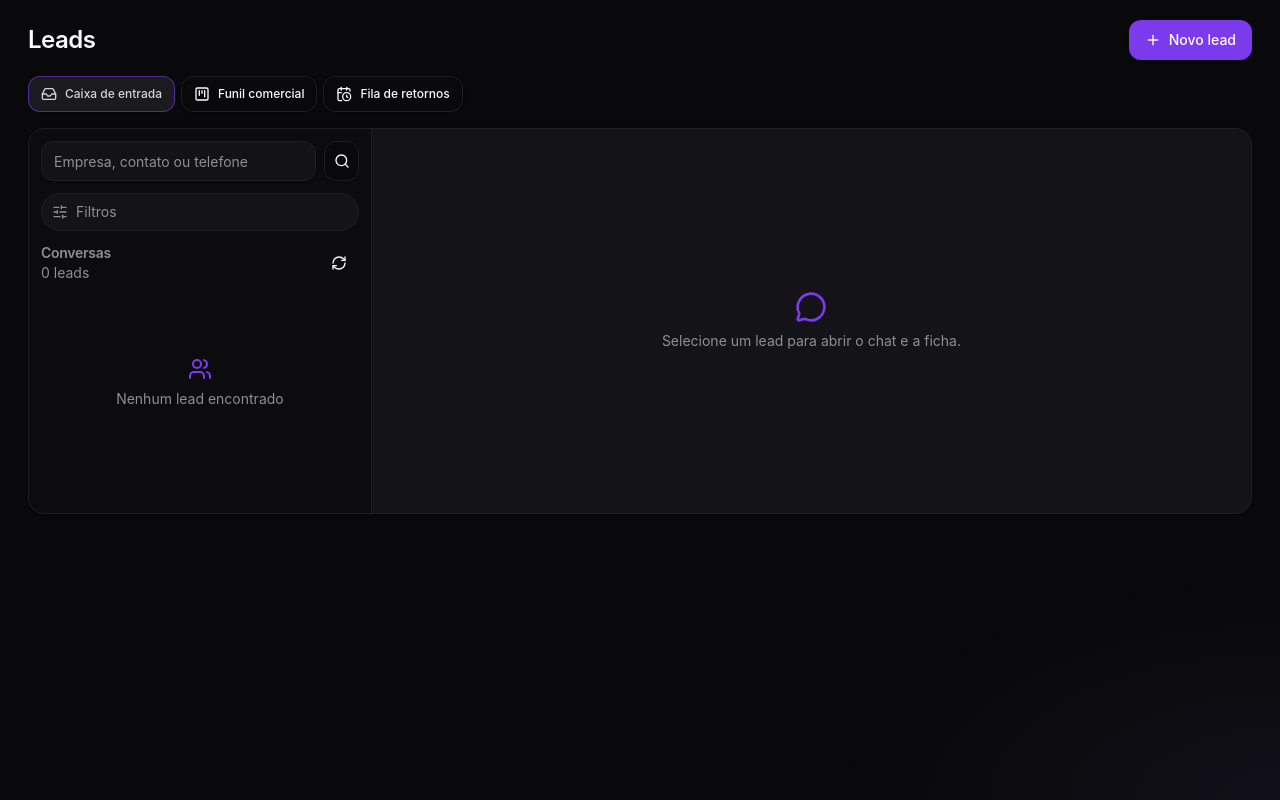
Leads, equipe e Meta Ads › leads consultam o filtro de pesquisa e abrem novo cadastro
expect the text "Nenhum lead encontrado" is shown: met, box [116,357,284,407]
Type "Empório" into the field named "Pesquisar leads" at (179, 161), box [41,141,316,181]
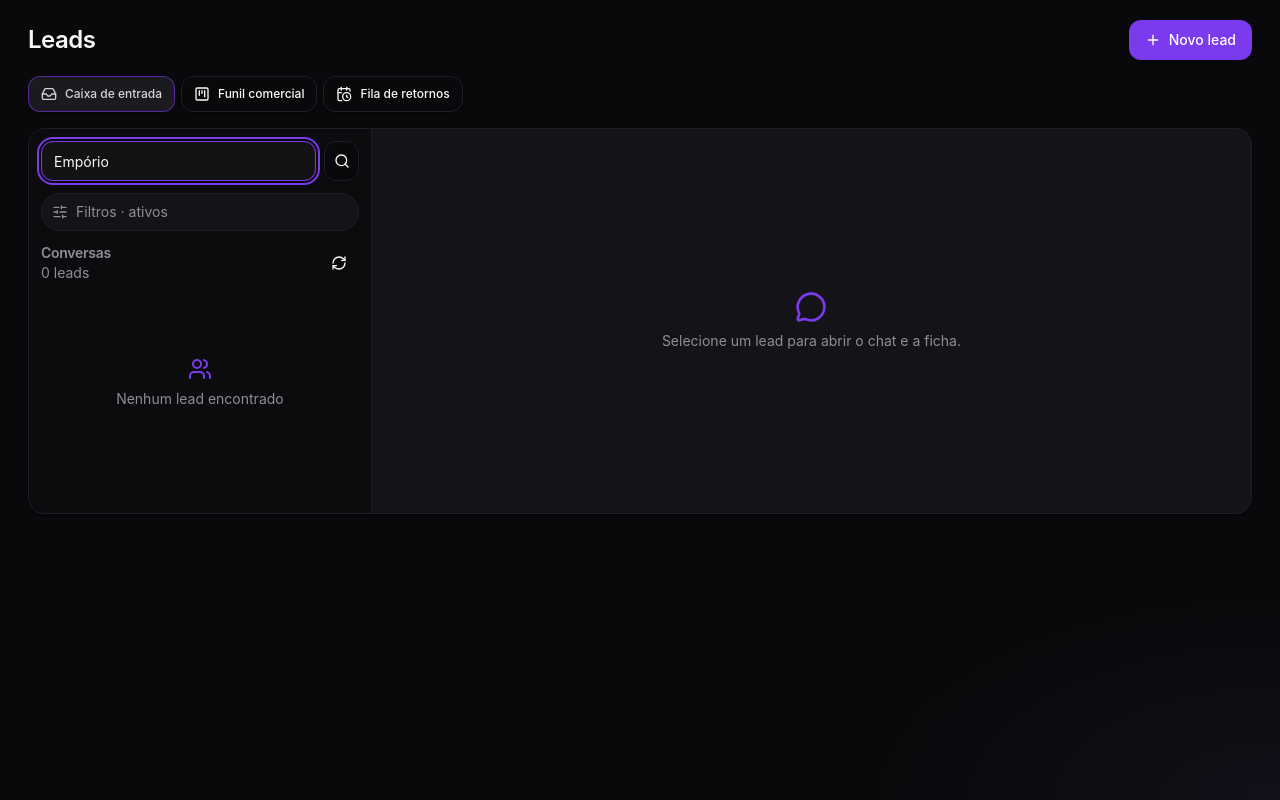
Click the button named "Pesquisar" at (342, 161), box [324,141,359,181]
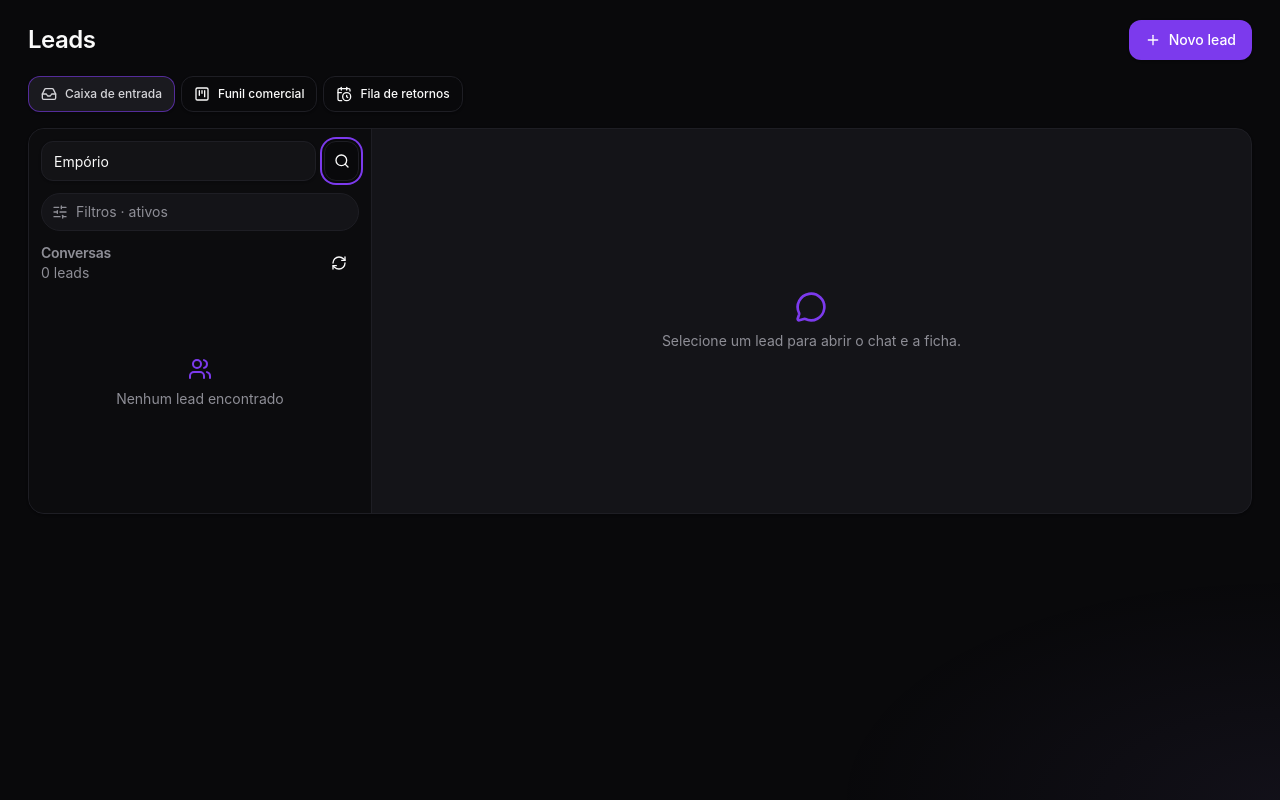
Click the button "Novo lead" at (1190, 40), box [1129,20,1252,60]
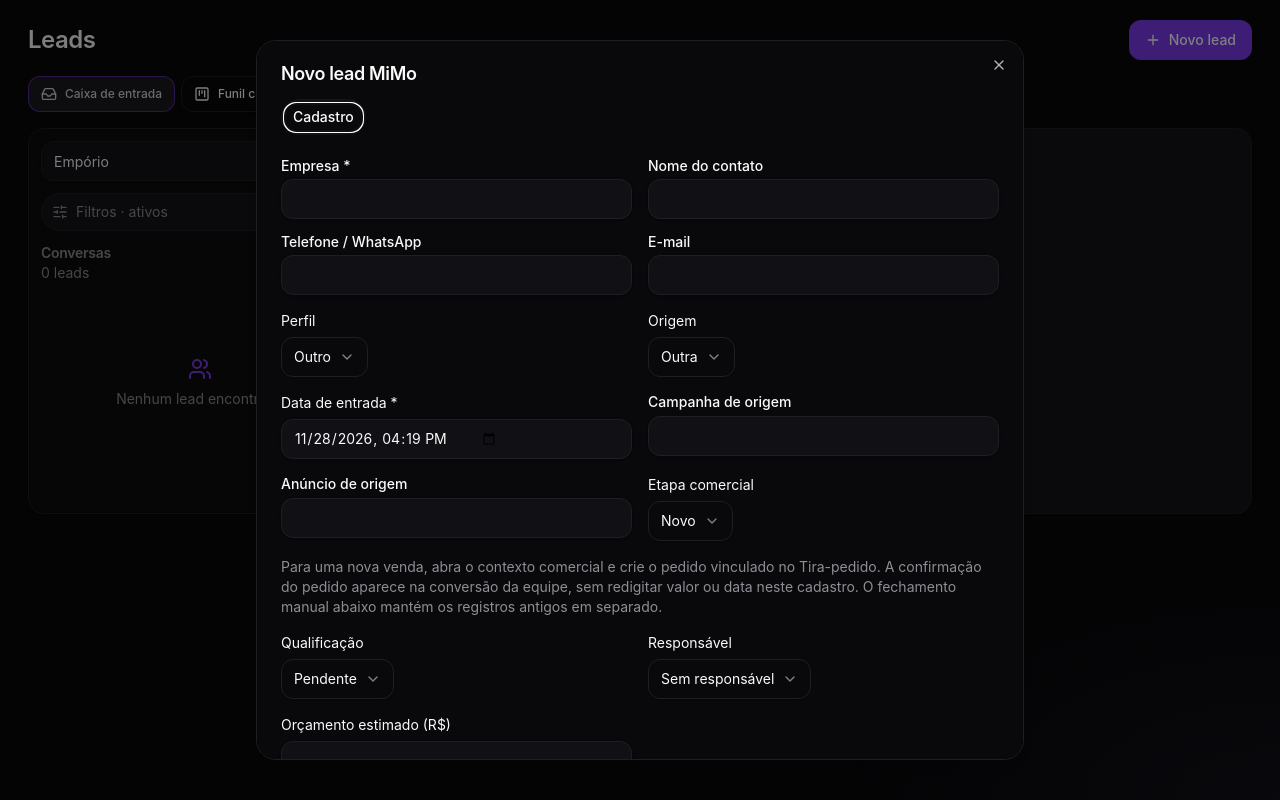
expect the dialog is shown: met, box [256,40,1024,760]
